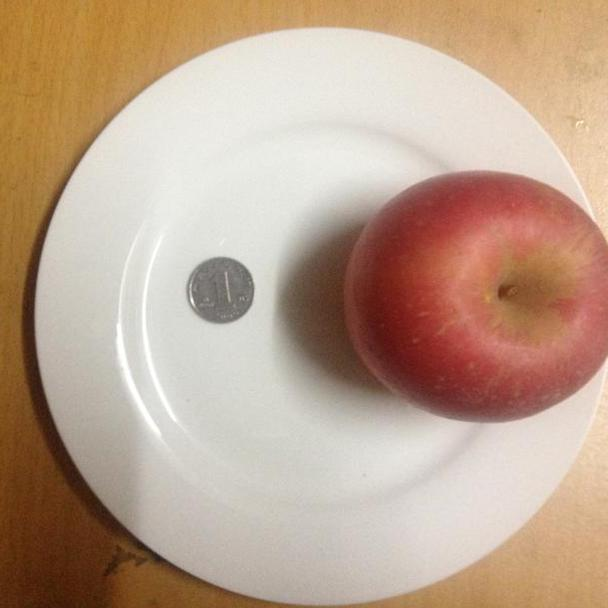apple: (341, 171, 608, 424)
